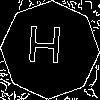H: (25, 25, 64, 73)
